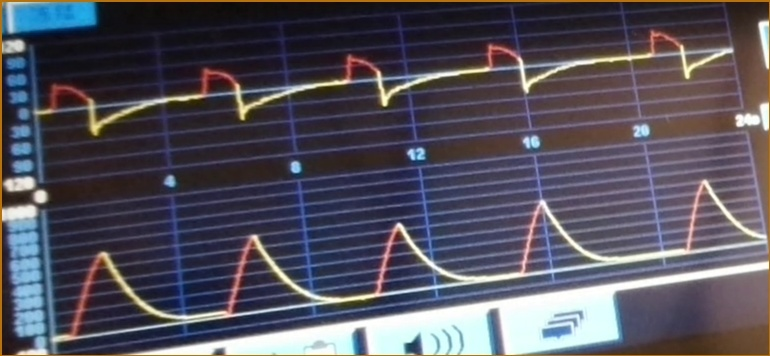Normal Flow: (39, 25, 734, 136)
Normal Volume: (57, 178, 766, 323)
